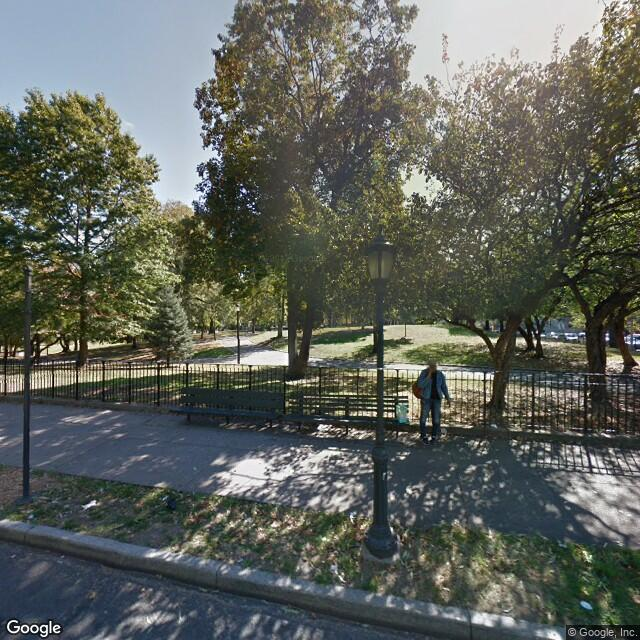litter: (580, 596, 599, 614)
